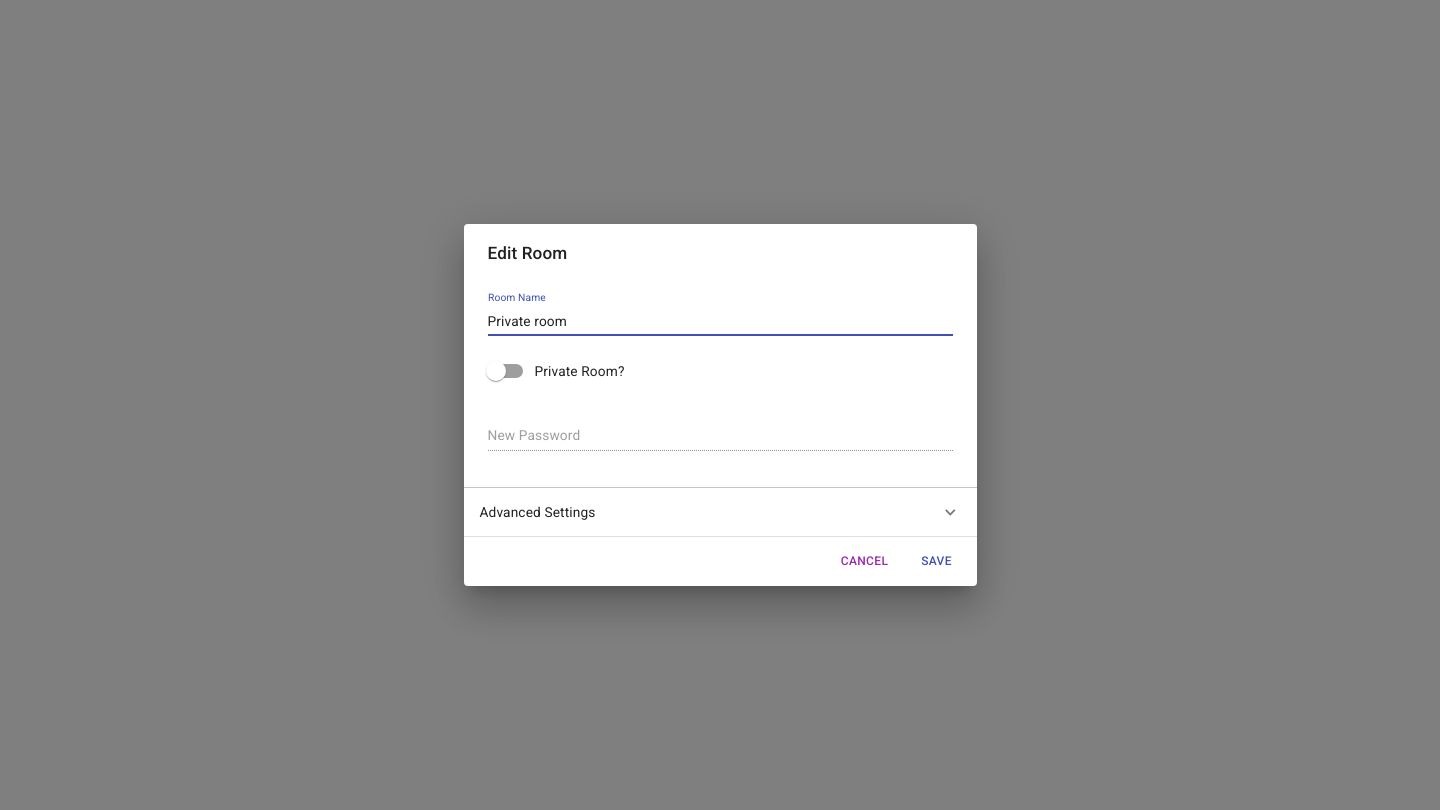
RoomConfigureDialog passwords › requires a password when making an existing public room private
The width and height of the screenshot is (1440, 810).
Click the checkbox labelled "Private Room?".
click(555, 371)  # box [486,361,624,381]
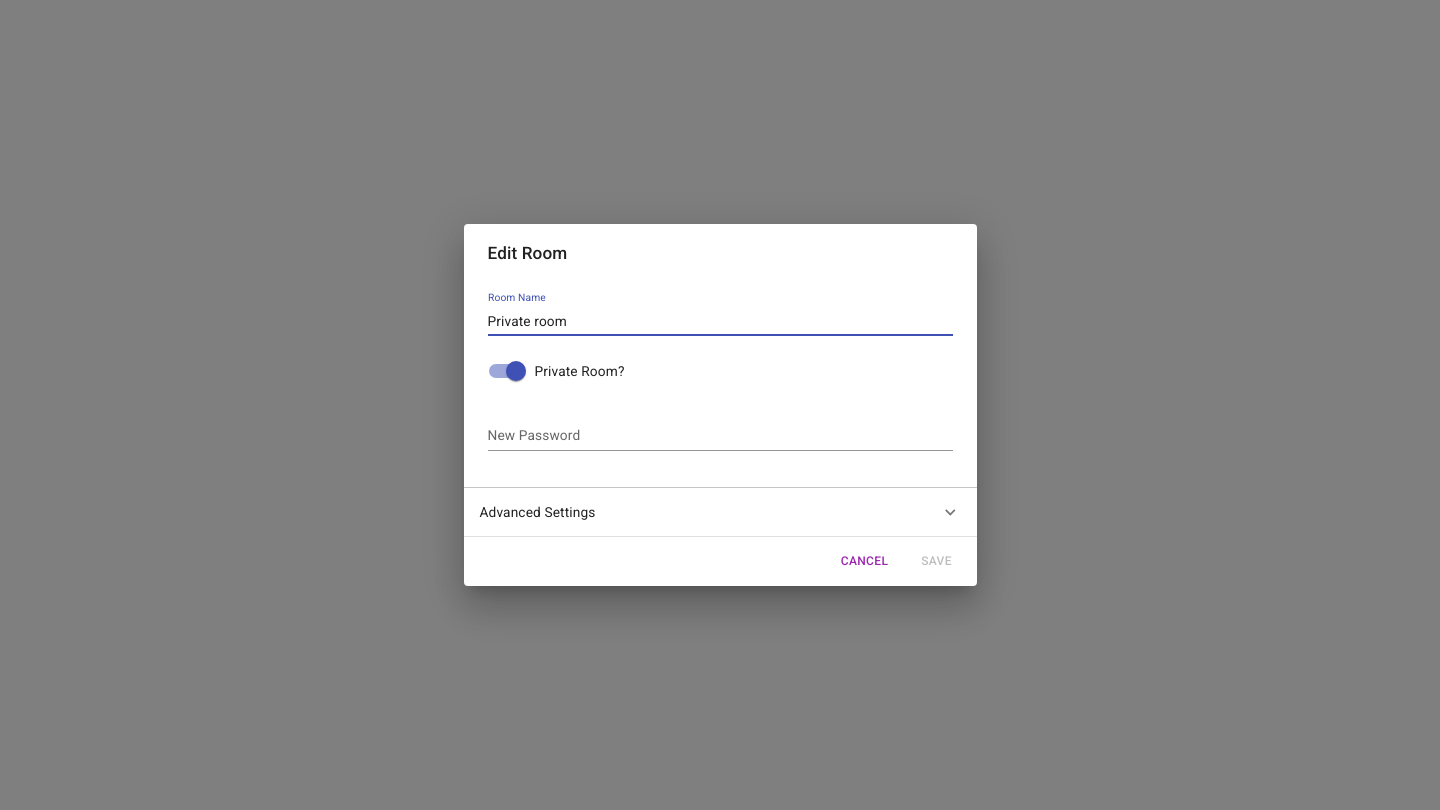
Check: the button "Save" is disabled, box [904,545,968,578]
